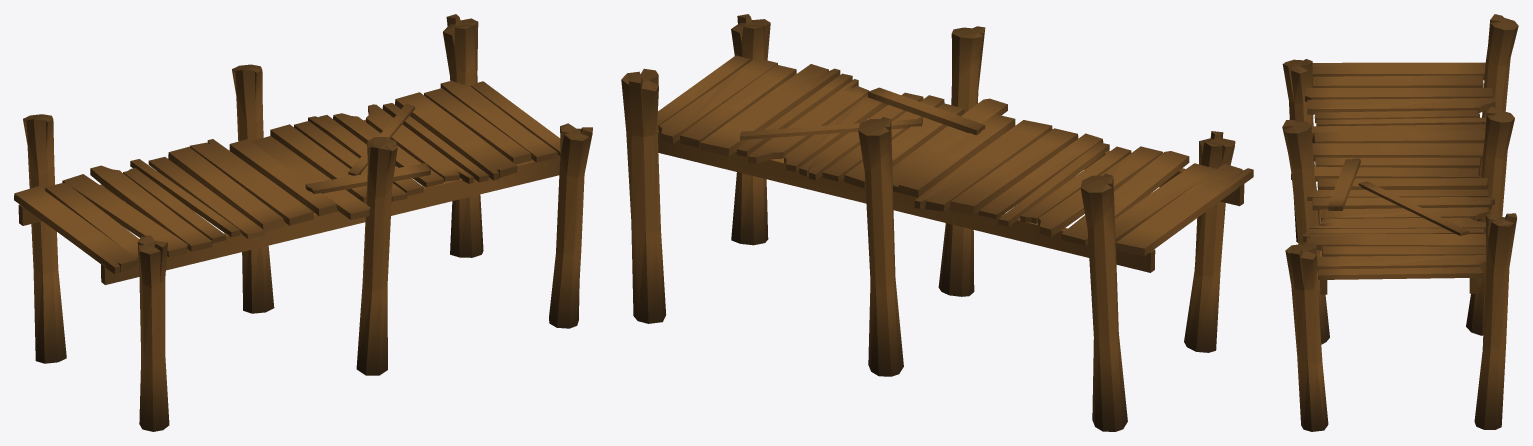
The model's file is Pond_Boardwalk-01.FBX.
3 renders of one model, left to right at view 1: azimuth 30°, elevation 25°; view 2: azimuth 150°, elevation 25°; view 3: azimuth 270°, elevation 25°, orthographic. The views are drawn at different scales.
Parts seen in each view (by area): view 1: Pond_Boardwalk-01; view 2: Pond_Boardwalk-01; view 3: Pond_Boardwalk-01.
Boxes of the visible parts, x1=… form: Pond_Boardwalk-01: x1=14, y1=14, x2=592, y2=431; Pond_Boardwalk-01: x1=621, y1=14, x2=1253, y2=431; Pond_Boardwalk-01: x1=1282, y1=14, x2=1518, y2=431.
Size of the model in its own units: 708 by 338 by 330.
Materials: 1 (1 with a texture image).
